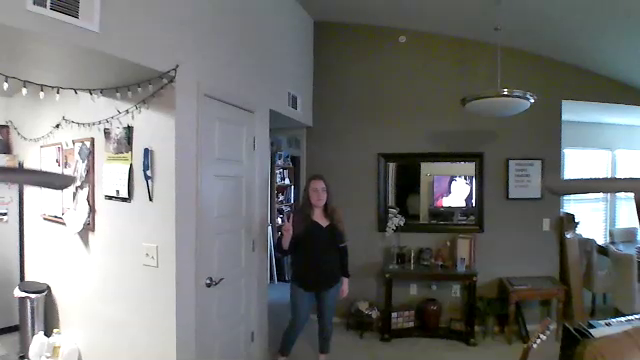peace: (278, 208, 301, 241)
